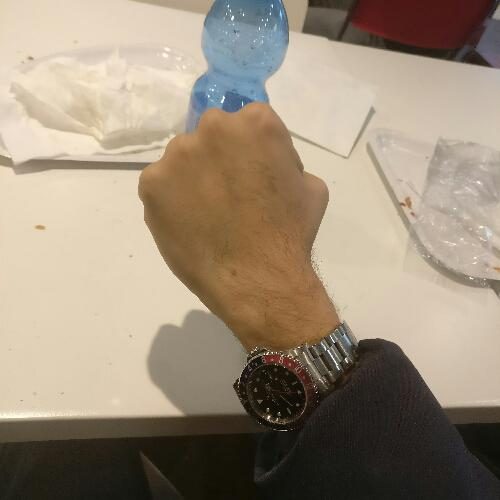rock: (132, 93, 336, 305)
